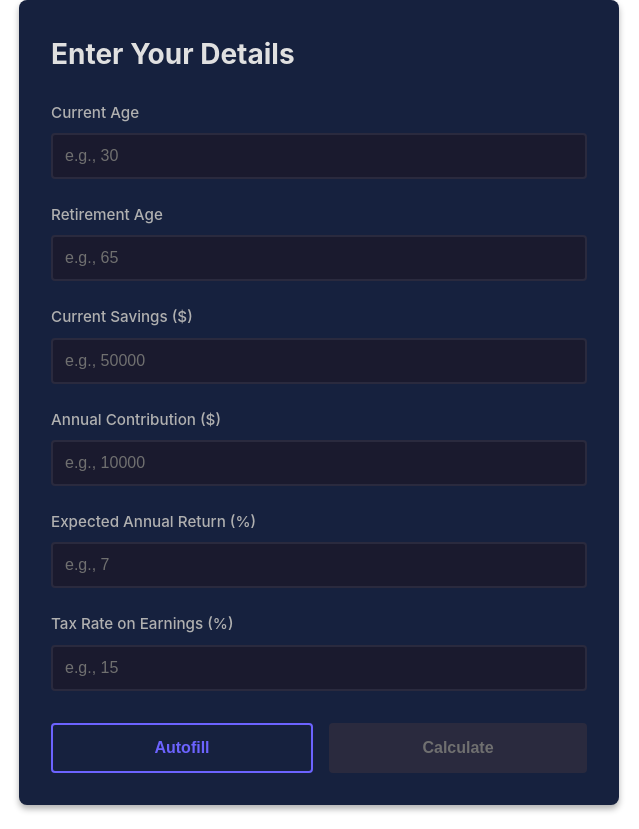
Scenario: InputForm › should autofill form with default values when Autofill button is clicked
Click the button "Autofill": (182, 748) 51,723 -> 313,773
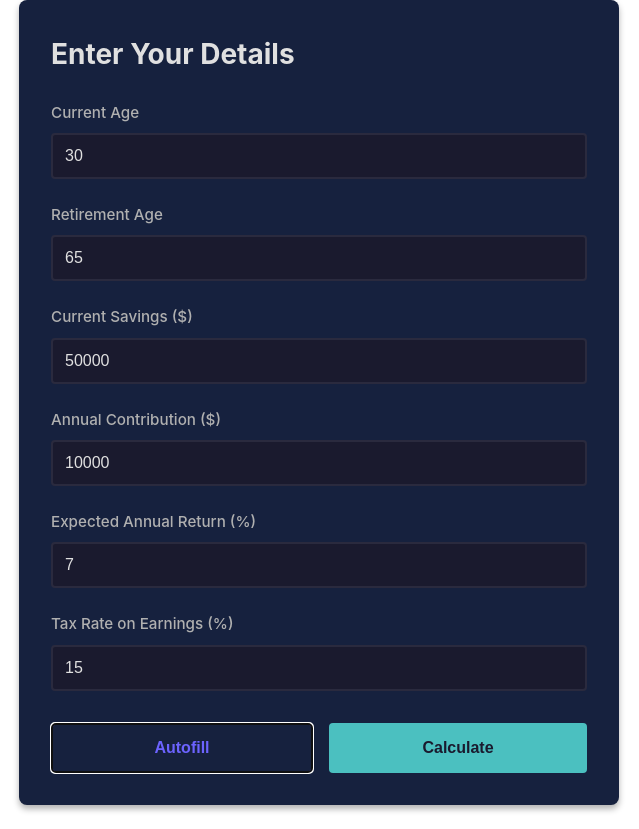
Now the number field labelled "Current Age" holds "30", box 51,133 -> 587,179
Now the number field labelled "Retirement Age" holds "65", box 51,235 -> 587,281
Now the number field labelled "Current Savings ($)" holds "50000", box 51,338 -> 587,384
